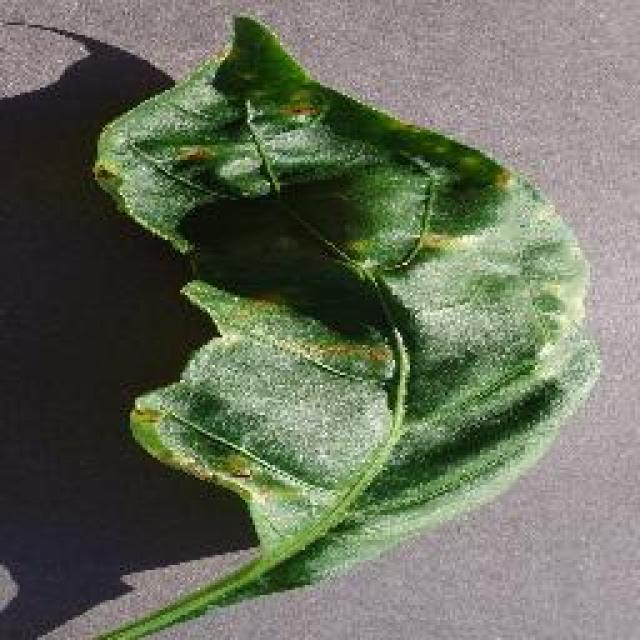Chilli_Bacterial_Spot: (0, 8, 605, 638), (167, 140, 215, 170), (275, 95, 323, 123), (88, 155, 122, 190), (125, 400, 163, 428), (487, 162, 515, 192), (225, 463, 255, 485)
